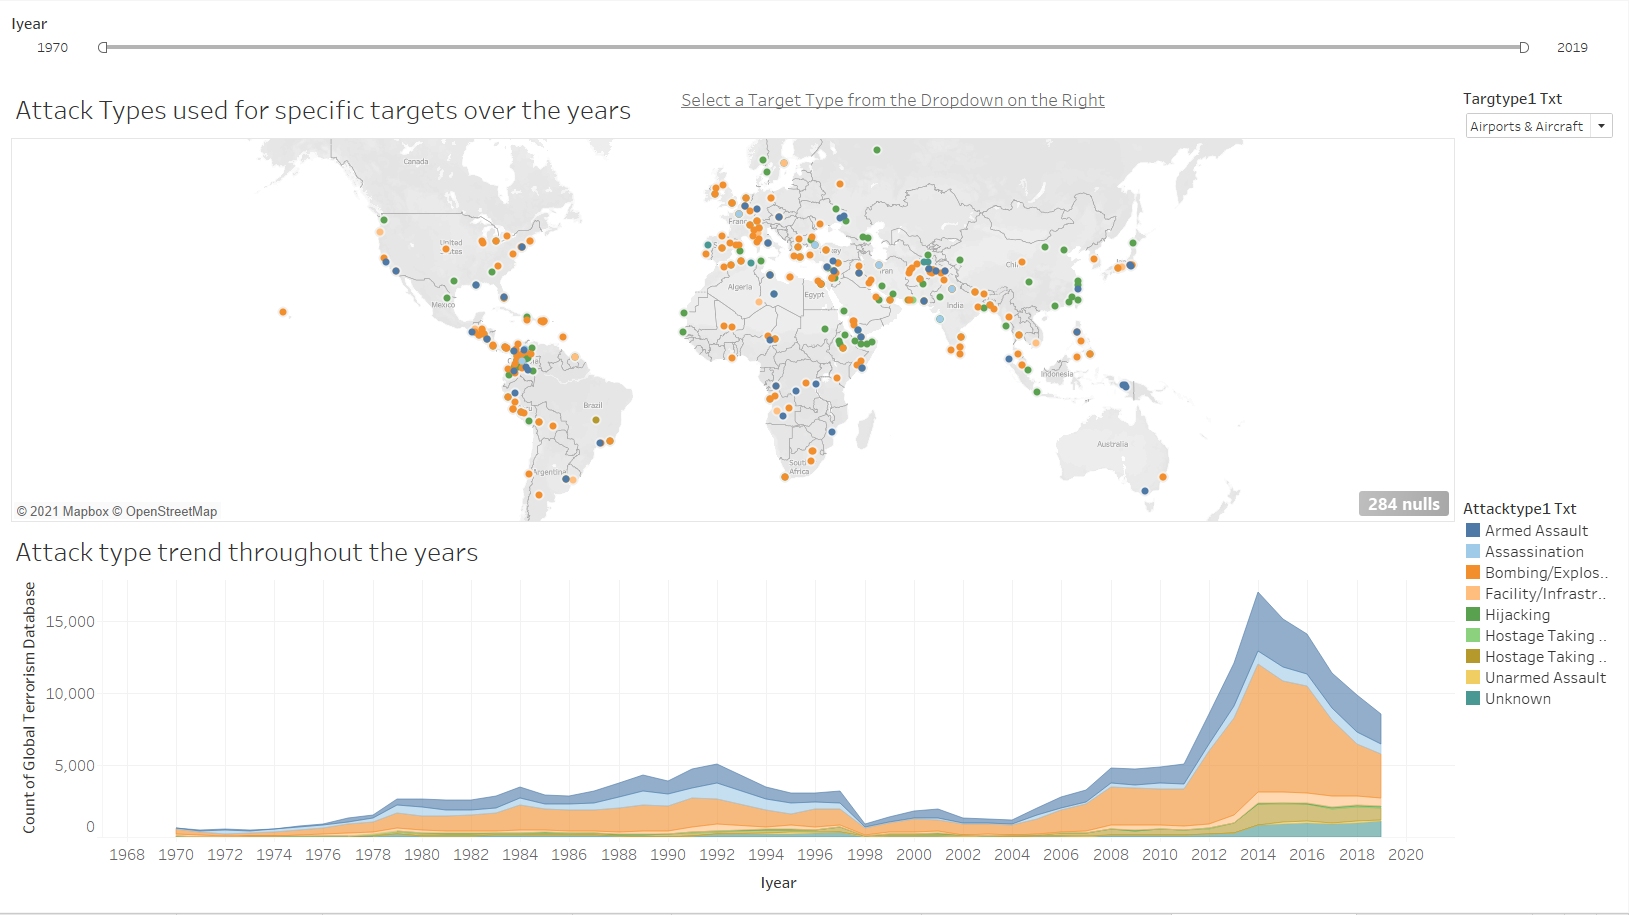

The page's visual inventory and layout, read from the dashboard file:
{"tool":"tableau","page":{"name":"RQ2.1","canvas":[1000,1000],"units":"permille","ordinal":2},"visuals":[{"type":"worksheet","box":[0,0,1000,1000]},{"type":"worksheet","box":[5.1,8.8,989.9,82.3]},{"type":"worksheet","title":"Attack Types used for specific targets over the years","mark":"Circle","param":"[federated.0vspcdp0v9njc21co1hia1xtu0lf].[none:iyear:qk]","box":[5.1,8.8,989.9,60.4]},{"type":"worksheet","param":"horz","box":[5.1,91.1,989.9,900.1]},{"type":"worksheet","box":[5.1,91.1,887.9,900.1]},{"type":"worksheet","title":"Attack Types used for specific targets over the years","mark":"Circle","box":[5.1,91.1,887.9,485.2]},{"type":"worksheet","param":"vert","box":[893,91.1,102,900.1]},{"type":"worksheet","title":"Attack Types used for specific targets over the years","mark":"Circle","param":"[federated.0vspcdp0v9njc21co1hia1xtu0lf].[none:targtype1_txt:nk]","box":[893,91.1,102,450.1]},{"type":"worksheet","title":"Attack Types used for specific targets over the years","mark":"Circle","param":"[federated.0vspcdp0v9njc21co1hia1xtu0lf].[none:attacktype1_txt:nk]","box":[893,541.2,102,450.1]},{"type":"worksheet","title":"Attack type trend throughout the years","mark":"Area","rows":["Data_5FF5386430B041CA866FE02013DAEE75"],"cols":["iyear"],"box":[5.1,576.3,887.9,414.9]}]}

Visuals, with their boxes on the dashboard's canvas, which has no fixed pixel size, in thousandths of its width and height (x1, y1, x2, y2). These are canvas units, not pixel positions in the 1629x915 screenshot, which may show the page scaled, cropped or inside an application window:
worksheet: box=[0, 0, 1000, 1000]
worksheet: box=[5, 9, 995, 91]
"Attack Types used for specific targets over the years" worksheet (Circle marks): box=[5, 9, 995, 69]
worksheet: box=[5, 91, 995, 991]
worksheet: box=[5, 91, 893, 991]
"Attack Types used for specific targets over the years" worksheet (Circle marks): box=[5, 91, 893, 576]
worksheet: box=[893, 91, 995, 991]
"Attack Types used for specific targets over the years" worksheet (Circle marks): box=[893, 91, 995, 541]
"Attack Types used for specific targets over the years" worksheet (Circle marks): box=[893, 541, 995, 991]
"Attack type trend throughout the years" worksheet (Area marks): box=[5, 576, 893, 991]
